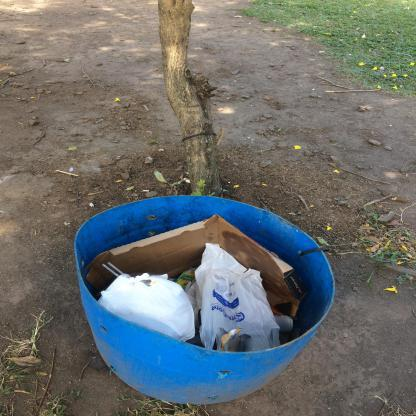karton: (84, 215, 310, 319), (175, 269, 198, 292)
plastik: (196, 244, 282, 355), (99, 276, 197, 343), (221, 329, 243, 353)
